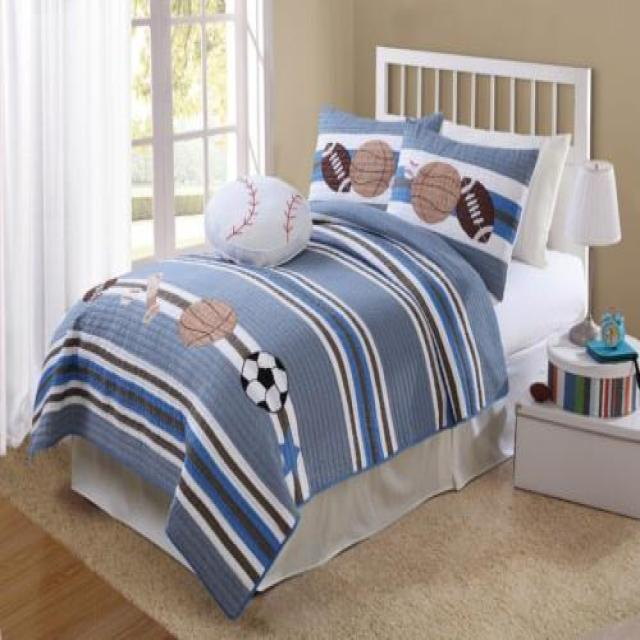bed: (27, 44, 594, 619)
